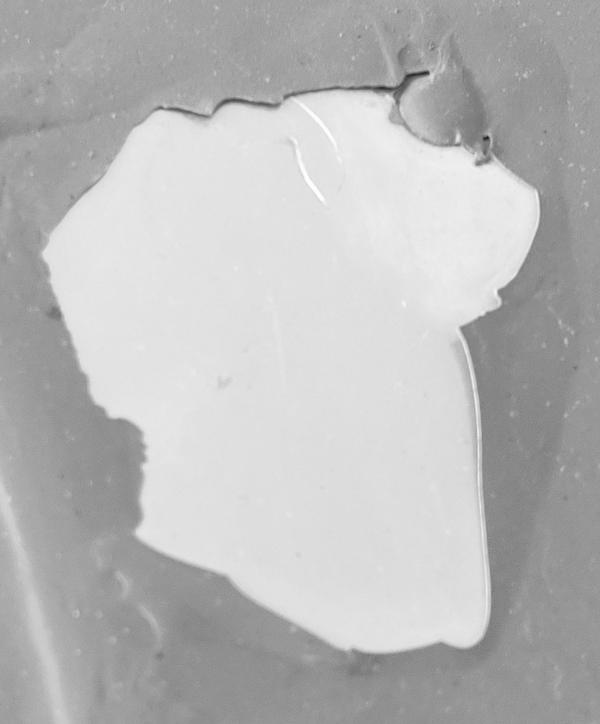paint-off: (1, 0, 600, 723)
